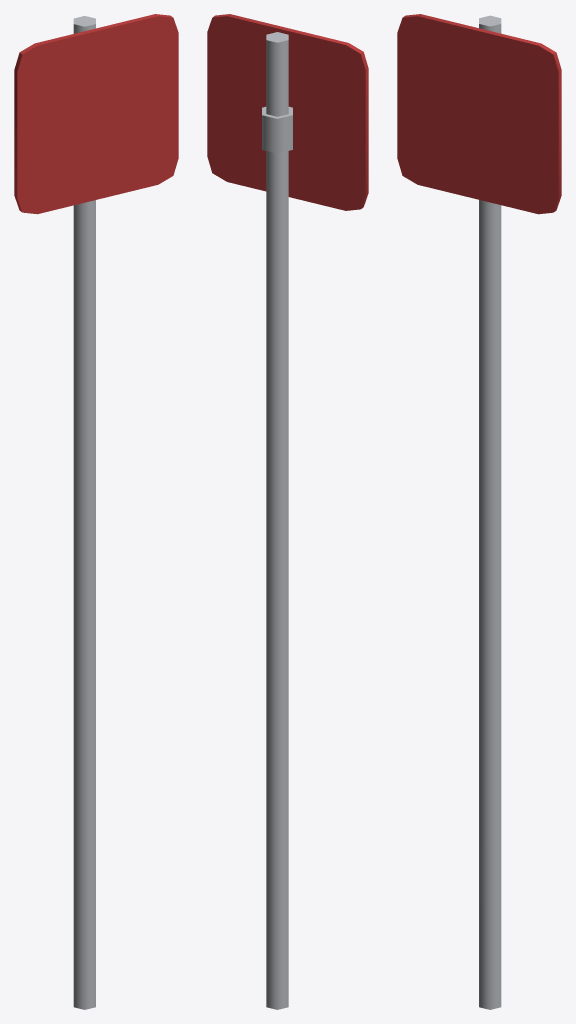
Rendered from SM_roadsign_010.fbx.
3 renders of one model, left to right at view 1: azimuth 30°, elevation 25°; view 2: azimuth 150°, elevation 25°; view 3: azimuth 330°, elevation 25°, orthographic.
Visible parts, largest first — view 1: Cylinder058; view 2: Cylinder058; view 3: Cylinder058.
Part boxes in pixels (x1,y1,x2,y2): Cylinder058: (14, 14, 178, 1009); Cylinder058: (207, 14, 368, 1009); Cylinder058: (397, 14, 561, 1009).
Bounding box in the file's own units: 21.1 × 123 × 4.67.
